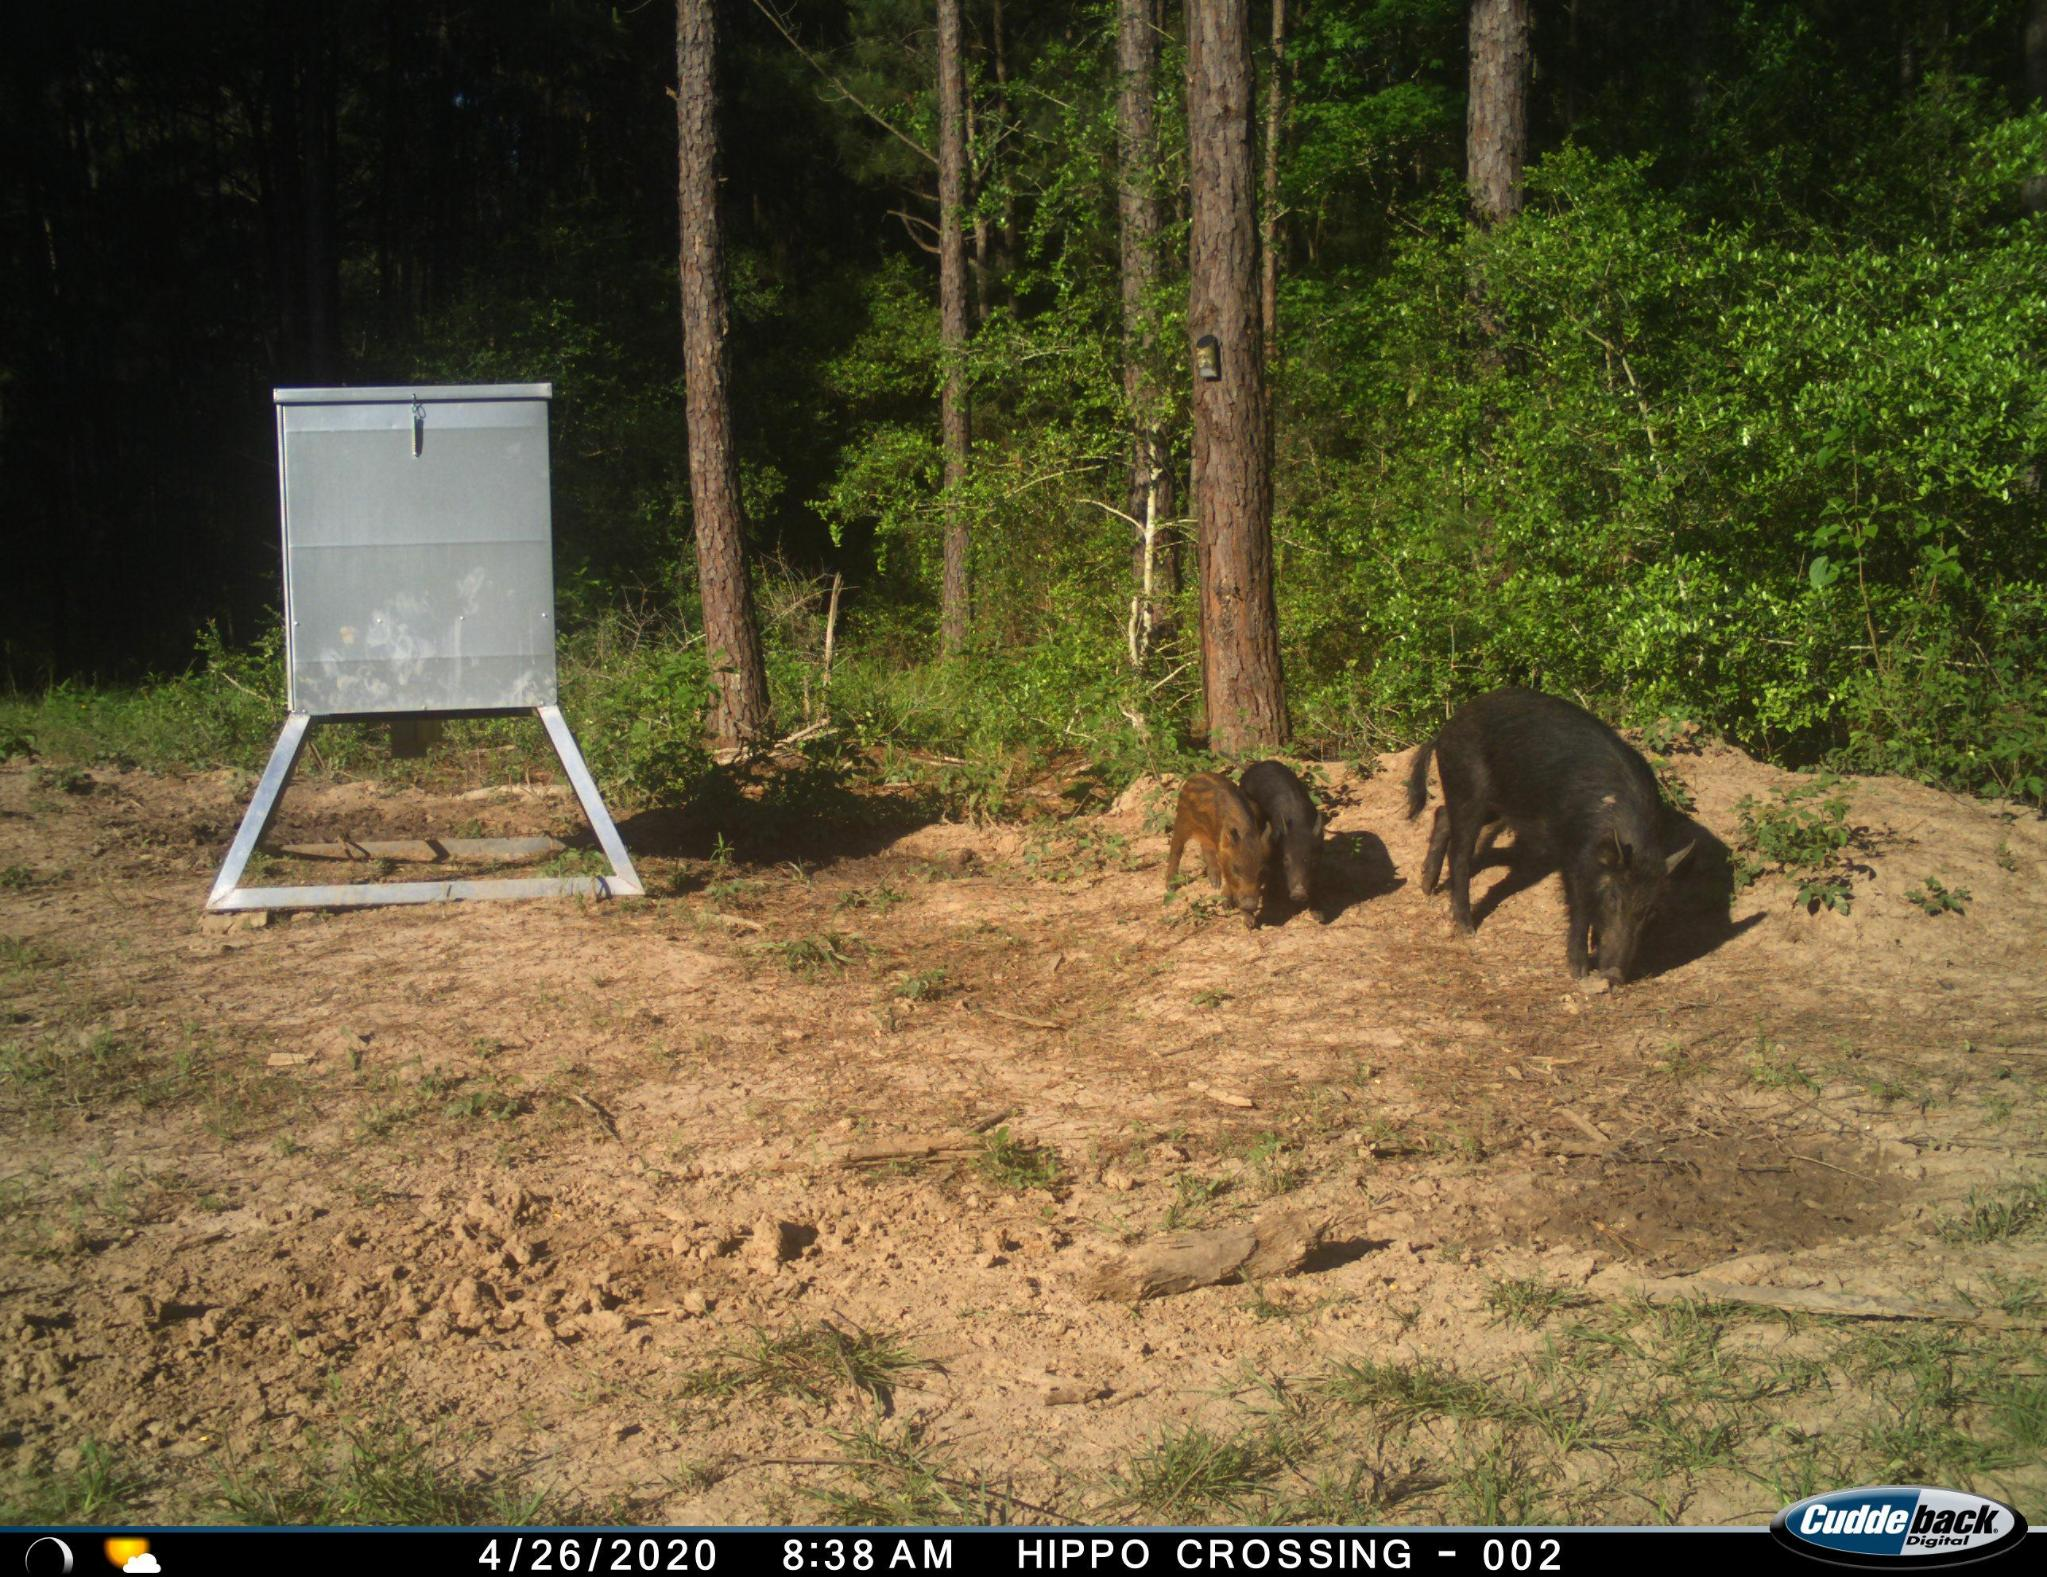Hog: (1396, 684, 1722, 1002), (1159, 765, 1269, 924), (1239, 755, 1340, 916)
